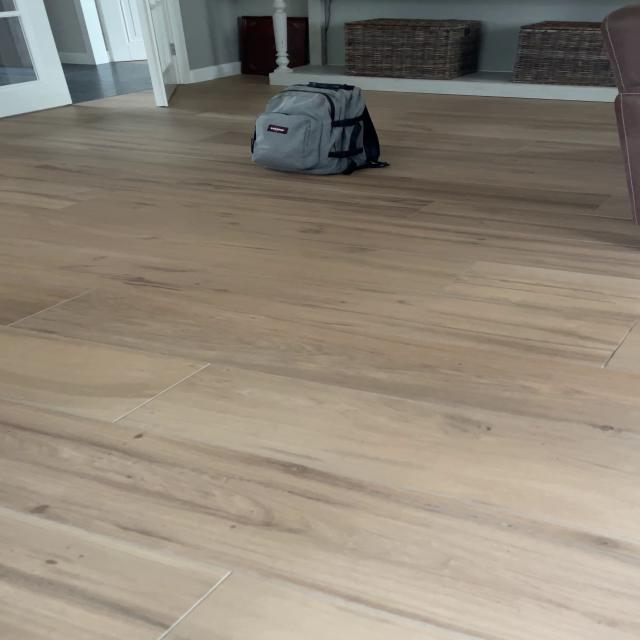backpack: (244, 76, 387, 180)
